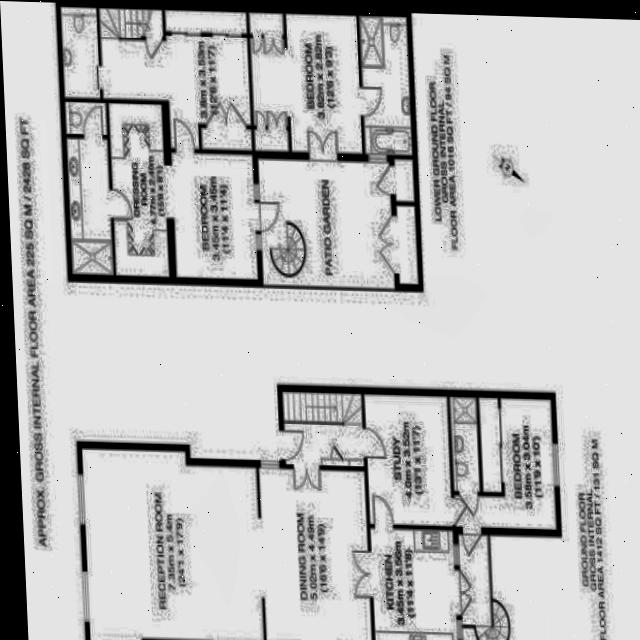room: (82, 447, 372, 640), (72, 101, 264, 279), (361, 393, 561, 529), (95, 7, 256, 150), (257, 157, 420, 288), (248, 7, 362, 158), (370, 523, 458, 640), (65, 99, 114, 276), (358, 13, 413, 157), (280, 391, 366, 466), (60, 4, 101, 100), (458, 532, 492, 626), (449, 394, 481, 492)
